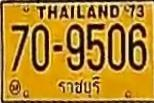0: (107, 22, 125, 70), (31, 24, 48, 70)
5: (86, 23, 104, 70)
6: (128, 23, 146, 69)
7: (11, 24, 28, 70)
9: (66, 23, 83, 70)
RBR: (56, 76, 106, 100)
